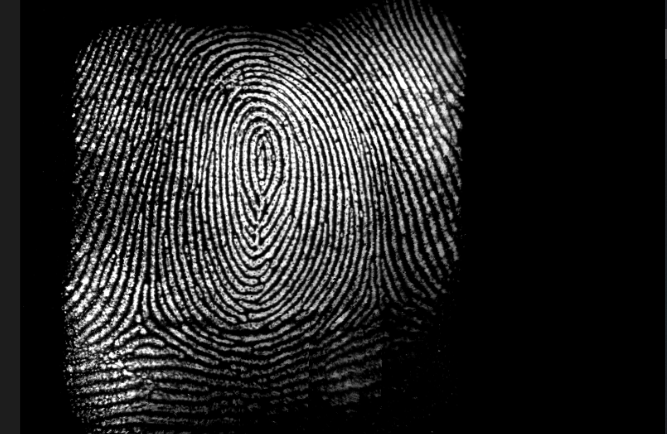nucelo: (244, 133, 279, 194)
verticilo: (115, 308, 160, 343), (365, 291, 408, 321)
